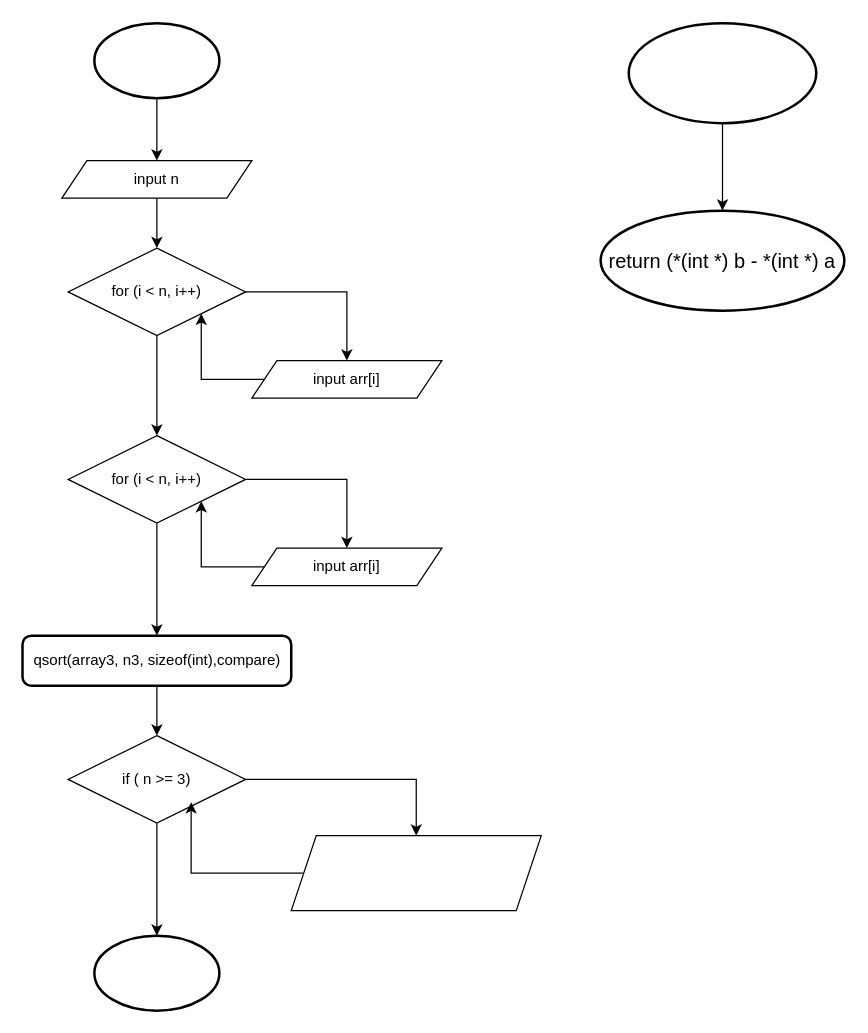
Image size: 868x1033. Some labels were removed from this diagram. Each missing label, with the centre of its shape:
compare( *a, *b): (722,72)
end: (156,972)
output "The large 3rd element = ", arr[2]: (415,872)
start: (156,60)
